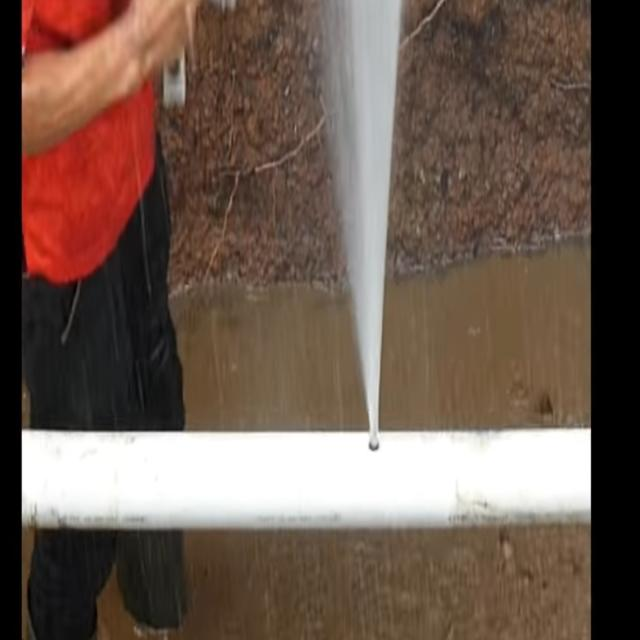leak: (324, 0, 401, 451)
